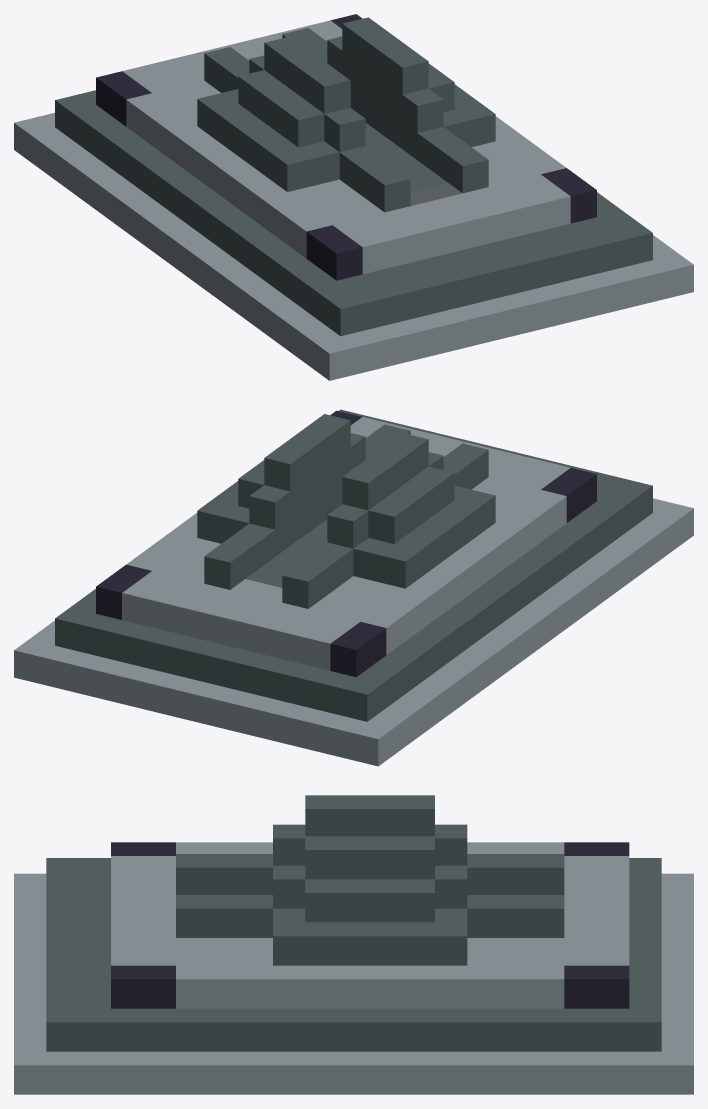
Rendered from lever bases.obj.
3 renders of one model, top to bottom at view 1: azimuth 30°, elevation 25°; view 2: azimuth 150°, elevation 25°; view 3: azimuth 270°, elevation 25°, orthographic. The views are drawn at different scales.
Size of the model in its own units: 1.4 by 0.6 by 2.1.
Materials: 1 (1 with a texture image).
